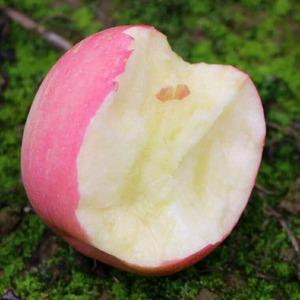apple: (21, 23, 267, 276)
